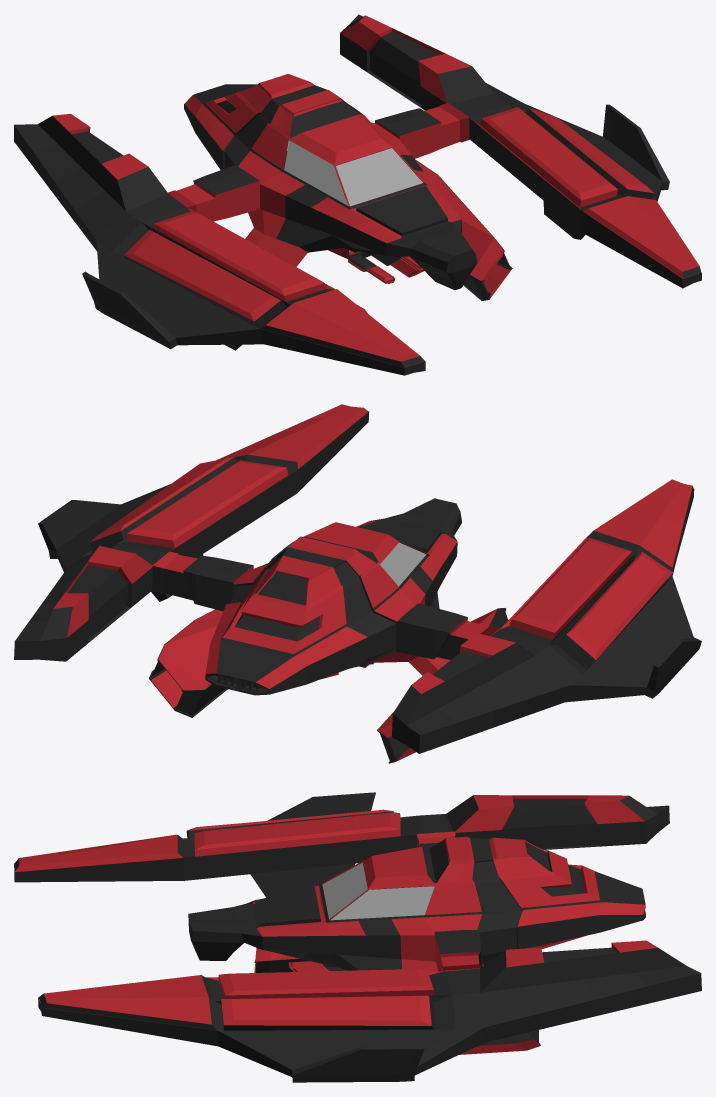
The model's file is Player Ship.fbx.
3 views of the same model, one above another, from view 1: azimuth 30°, elevation 25°; view 2: azimuth 150°, elevation 25°; view 3: azimuth 270°, elevation 25° (orthographic). The views are drawn at different scales.
Parts seen in each view (by area): view 1: spaceship for PC; view 2: spaceship for PC; view 3: spaceship for PC.
Boxes of the visible parts, x1=… form: spaceship for PC: x1=14, y1=14, x2=701, y2=375; spaceship for PC: x1=14, y1=404, x2=701, y2=763; spaceship for PC: x1=14, y1=792, x2=701, y2=1082.
Bounding box in the file's own units: 393 × 112 × 418.
